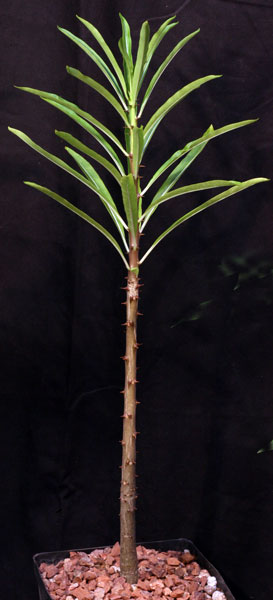Pachypodium meridionale: (46, 12, 225, 579)
